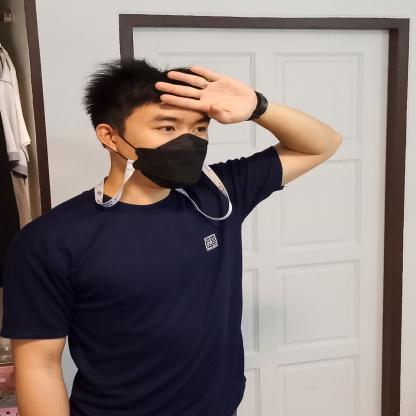Sick: (122, 61, 351, 208)
